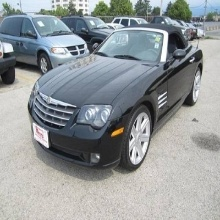no damage: (28, 26, 204, 170), (1, 12, 90, 71)
